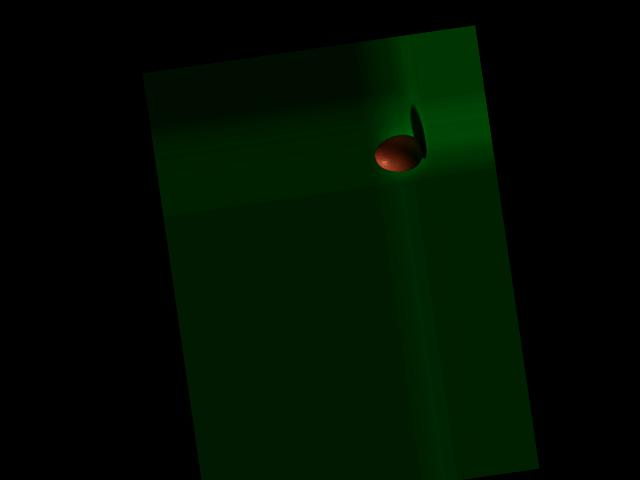egg: (372, 131, 426, 175)
